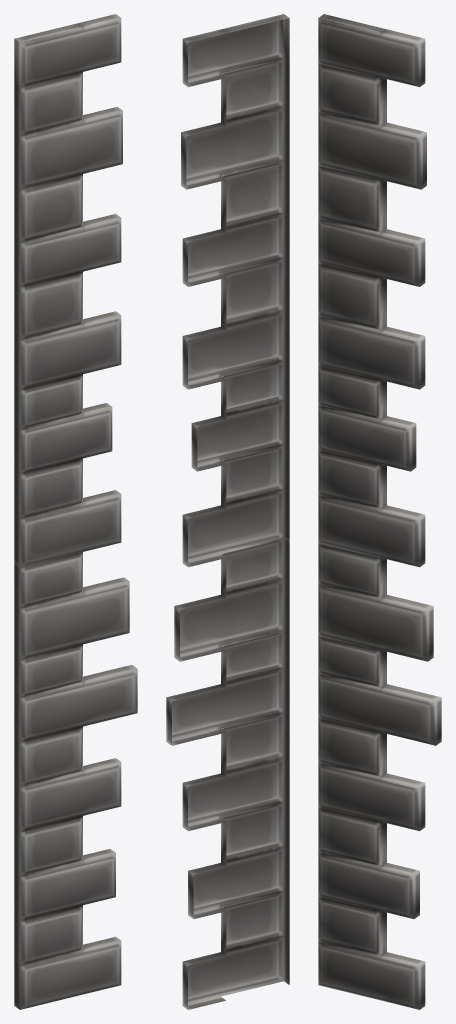
Rendered from PropTrimFacade01_9_1.FBX.
3 views of the same model, side by side, from view 1: azimuth 30°, elevation 25°; view 2: azimuth 210°, elevation 25°; view 3: azimuth 330°, elevation 25° (orthographic).
Parts seen in each view (by area): view 1: PropTrimFacade01_9_1; view 2: PropTrimFacade01_9_1; view 3: PropTrimFacade01_9_1.
Boxes of the visible parts, x1,y1,x2,y2 form: PropTrimFacade01_9_1: (14,14,137,1009); PropTrimFacade01_9_1: (166,14,289,1009); PropTrimFacade01_9_1: (318,14,441,1009).
Size of what is drawn, in the model's own units: 0.4452 by 3.5 by 0.0463.
